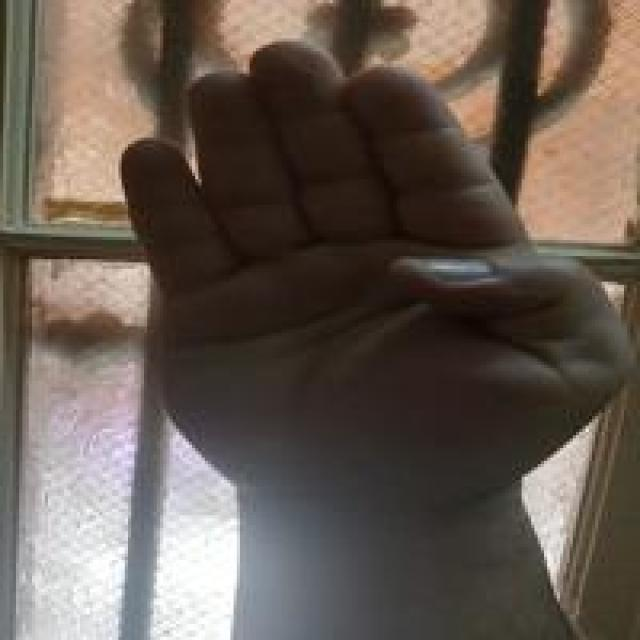B: (102, 28, 637, 526)
